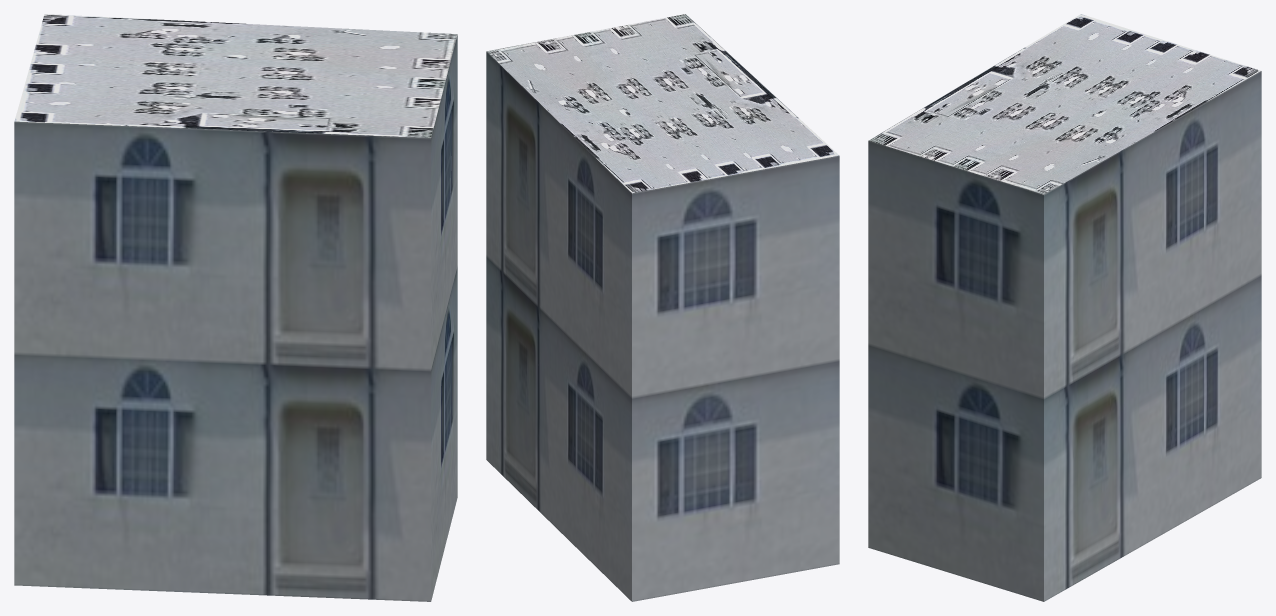
File: ResTex__258.fbx
3 renders of one model, left to right at view 1: azimuth 30°, elevation 25°; view 2: azimuth 150°, elevation 25°; view 3: azimuth 270°, elevation 25°, orthographic. The views are drawn at different scales.
Parts seen in each view (by area): view 1: CityEngineMaterial_17_m, CityEngineMaterial_4_m; view 2: CityEngineMaterial_17_m, CityEngineMaterial_4_m; view 3: CityEngineMaterial_17_m, CityEngineMaterial_4_m.
Boxes of the visible parts, box(x1,y1,x2,y2) form: CityEngineMaterial_17_m: box(14, 34, 457, 601); CityEngineMaterial_4_m: box(14, 14, 457, 137); CityEngineMaterial_17_m: box(486, 51, 839, 601); CityEngineMaterial_4_m: box(487, 14, 838, 193); CityEngineMaterial_17_m: box(868, 71, 1261, 601); CityEngineMaterial_4_m: box(869, 14, 1260, 194).
Bounding box in the file's own units: 5.71 × 6 × 5.25.
Materials: 2 (2 with a texture image).
